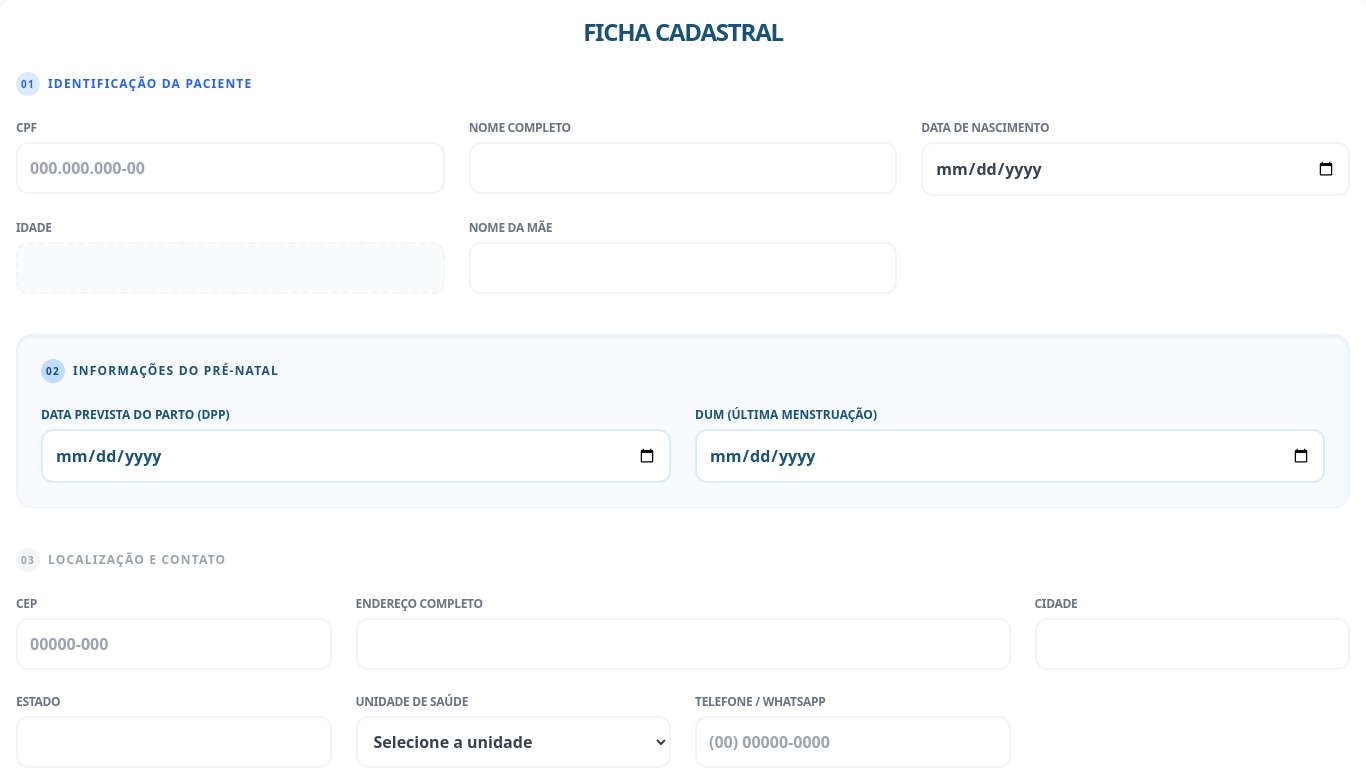
Test: Componente RegistrationForm › deve preencher os campos de endereço ao digitar um CEP válido
Type "08675000" into the field labelled "CEP" at [174, 644], box [16,618,332,670]
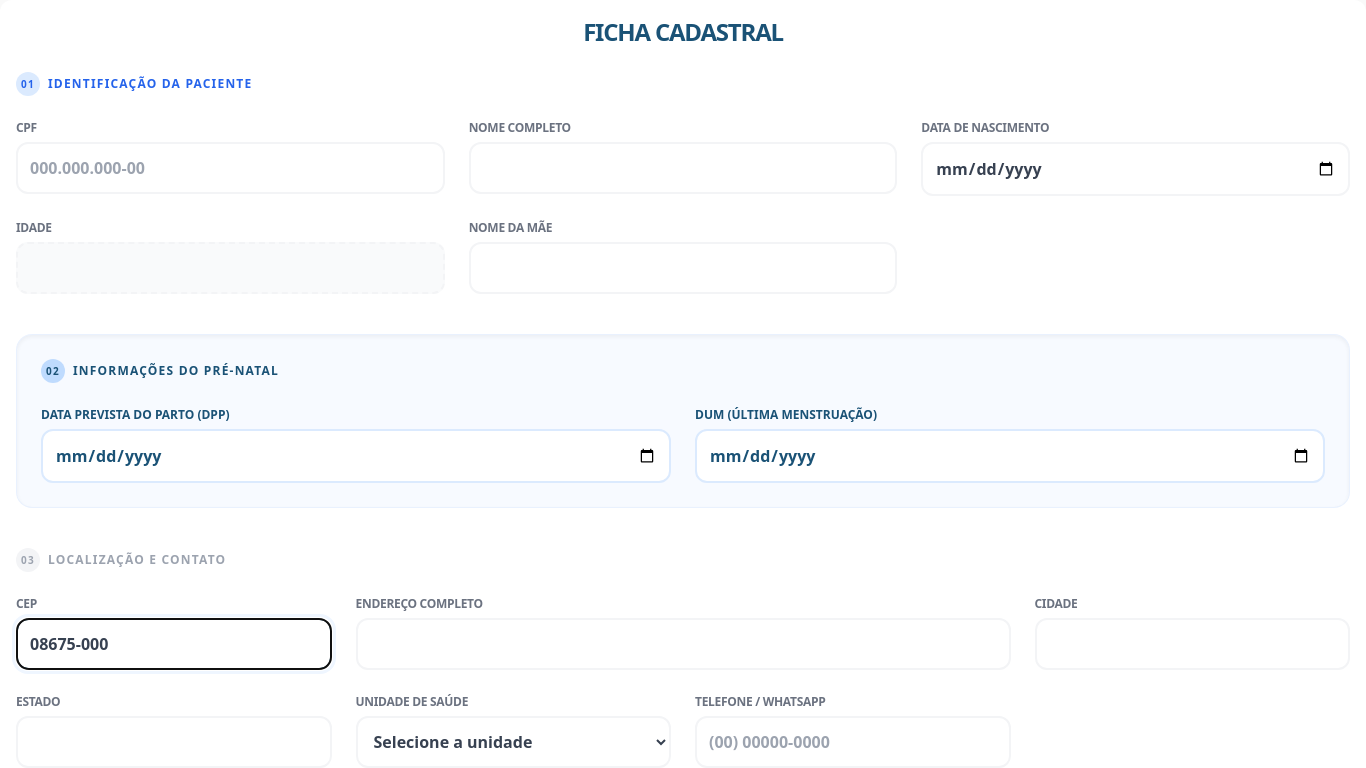
Press Tab
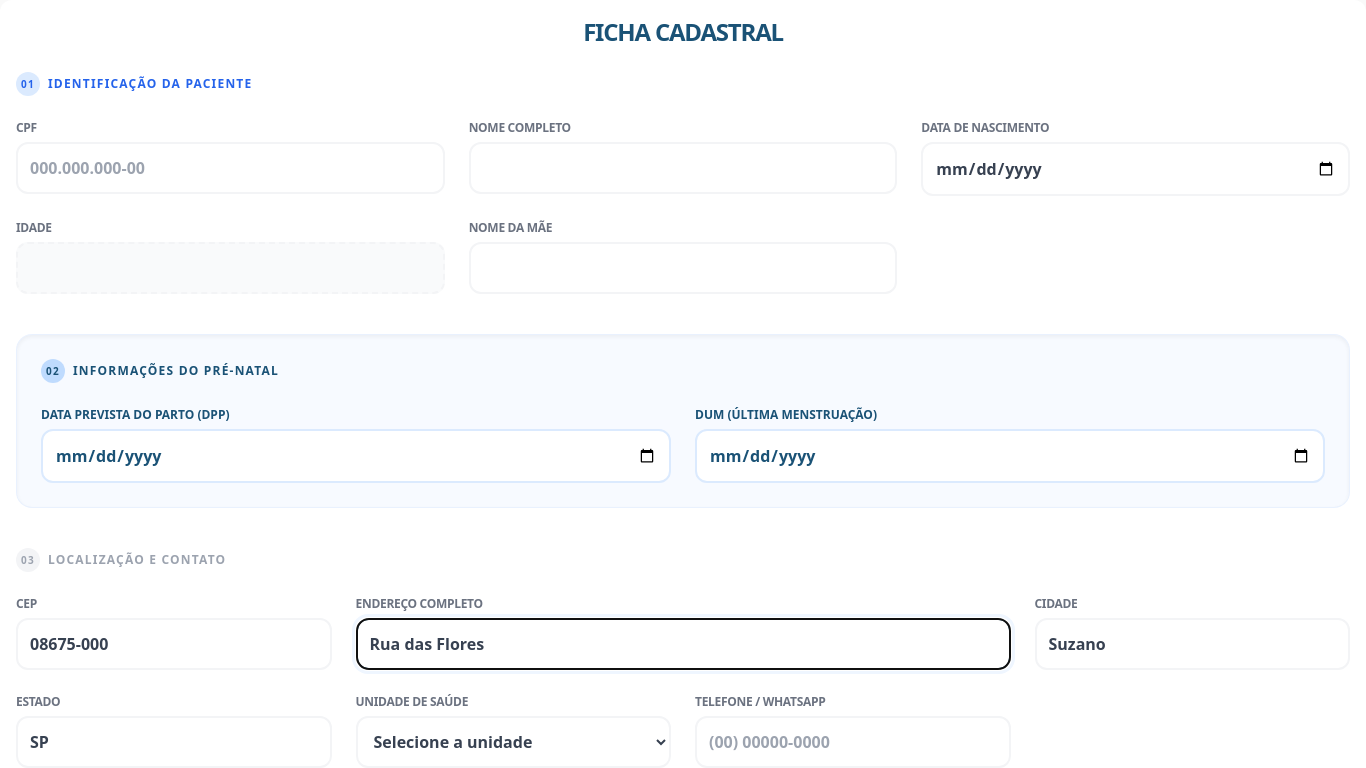
Now the field labelled "Endereço Completo" holds "Rua das Flores", box [356,618,1010,670]
Now the field labelled "Cidade" holds "Suzano", box [1034,618,1350,670]
Now the field labelled "Estado" holds "SP", box [16,716,332,767]
